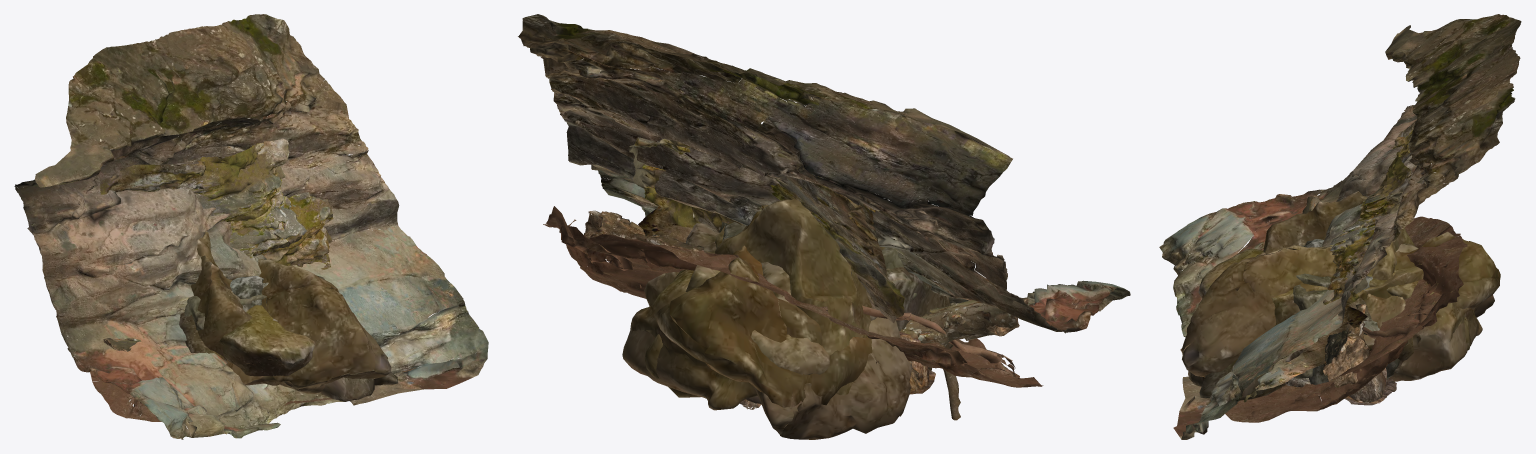
The model's file is props_hard.glb.
The picture shows the model from 3 angles, left to right: view 1: azimuth 30°, elevation 25°; view 2: azimuth 150°, elevation 25°; view 3: azimuth 270°, elevation 25°; orthographic projection. The views are drawn at different scales.
Parts seen in each view (by area): view 1: rock_face_01, rock_face_02, rock_moss_set_01_0, rock_moss_set_01_4, rock_moss_set_01_3, root_cluster_01, rock_moss_set_01_1, rock_moss_set_02_4, rock_moss_set_01_2, rock_moss_set_02_6; view 2: rock_face_01, rock_moss_set_01_0, root_cluster_01, rock_moss_set_01_3, rock_face_02, rock_moss_set_01_1, rock_moss_set_01_4, dead_tree_trunk_02, rock_moss_set_01_2, rock_moss_set_01_5, rock_moss_set_02_6, namaqualand_boulder_02; view 3: rock_face_01, rock_moss_set_01_0, root_cluster_01, rock_face_02, rock_moss_set_01_4, rock_moss_set_01_3, dead_tree_trunk_02, rock_moss_set_01_5, rock_moss_set_01_1, namaqualand_boulder_02, rock_moss_set_02_6, rock_moss_set_02_4.
Part boxes in pixels (<box>): rock_face_01: <box>14,14,488,439</box>; rock_face_02: <box>100,138,333,269</box>; rock_moss_set_01_0: <box>226,258,391,389</box>; rock_moss_set_01_4: <box>219,304,314,385</box>; rock_moss_set_01_3: <box>156,232,252,360</box>; root_cluster_01: <box>88,317,416,421</box>; rock_moss_set_01_1: <box>246,309,398,401</box>; rock_moss_set_02_4: <box>230,275,268,311</box>; rock_moss_set_01_2: <box>164,311,226,360</box>; rock_moss_set_02_6: <box>184,275,324,330</box>; rock_face_01: <box>518,14,1130,333</box>; rock_moss_set_01_0: <box>654,211,932,414</box>; root_cluster_01: <box>543,206,1043,387</box>; rock_moss_set_01_3: <box>644,199,885,395</box>; rock_face_02: <box>629,98,904,323</box>; rock_moss_set_01_1: <box>754,262,912,439</box>; rock_moss_set_01_4: <box>622,252,829,410</box>; dead_tree_trunk_02: <box>584,210,1028,420</box>; rock_moss_set_01_2: <box>686,223,953,403</box>; rock_moss_set_01_5: <box>644,226,725,397</box>; rock_moss_set_02_6: <box>719,222,917,299</box>; namaqualand_boulder_02: <box>899,330,935,394</box>; rock_face_01: <box>1159,14,1521,439</box>; rock_moss_set_01_0: <box>1180,231,1500,377</box>; root_cluster_01: <box>1225,216,1467,422</box>; rock_face_02: <box>1243,120,1416,402</box>; rock_moss_set_01_4: <box>1198,248,1482,381</box>; rock_moss_set_01_3: <box>1263,191,1414,368</box>; dead_tree_trunk_02: <box>1302,195,1369,387</box>; rock_moss_set_01_5: <box>1240,264,1470,359</box>; rock_moss_set_01_1: <box>1188,243,1494,400</box>; namaqualand_boulder_02: <box>1286,368,1396,405</box>; rock_moss_set_02_6: <box>1293,233,1372,378</box>; rock_moss_set_02_4: <box>1301,239,1400,379</box>.
Size of the model in its own units: 4.95 by 3.57 by 3.83.
Materials: 14 (14 with a texture image).
